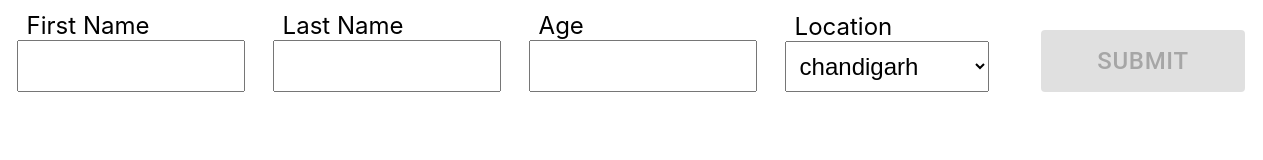
Test case: Add User Test Cases › enable submit button after entering all fields
The width and height of the screenshot is (1263, 160).
expect the button "Submit" is disabled: met, box [1041,30,1245,92]
In the field labelled "First Name": (131, 66) [17,40,245,92], type "sidharth"
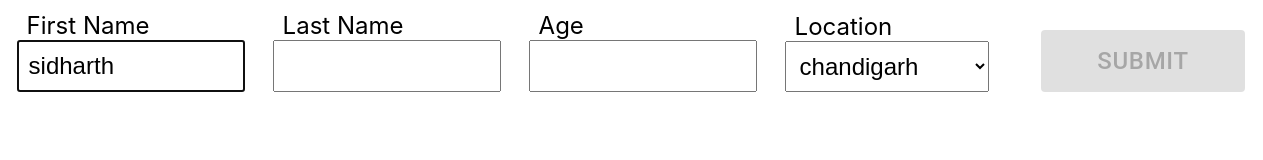
In the field labelled "Last Name": (387, 66) [273,40,501,92], type "rehlan"
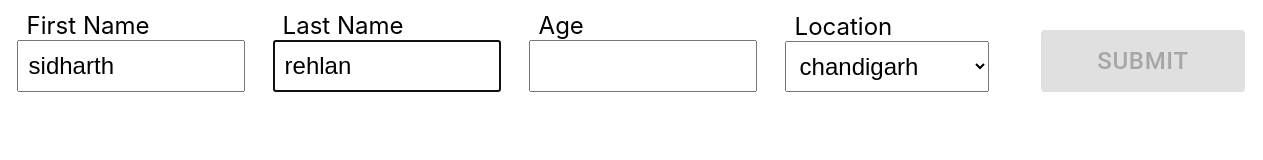
In the field labelled "Age": (643, 66) [529,40,757,92], type "12"
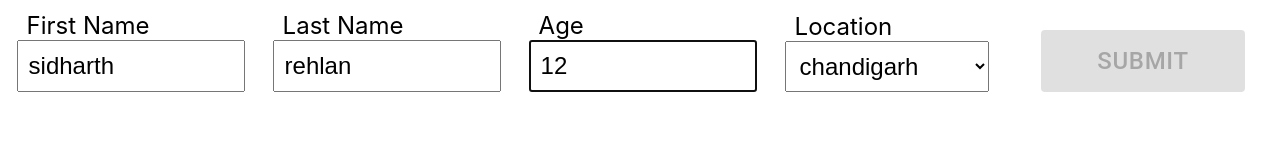
Select "chandigarh" in the dropdown labelled "Location": (887, 66) [785,41,989,92]
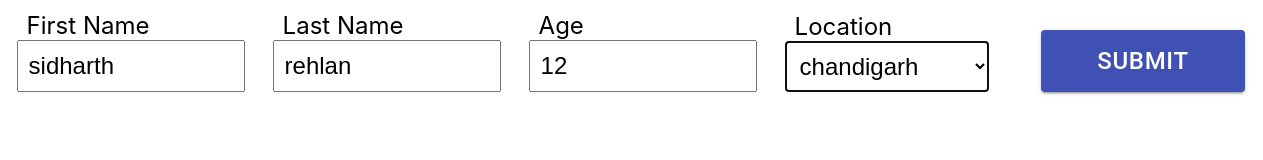
expect the button "Submit" is enabled: met, box [1041,30,1245,92]
